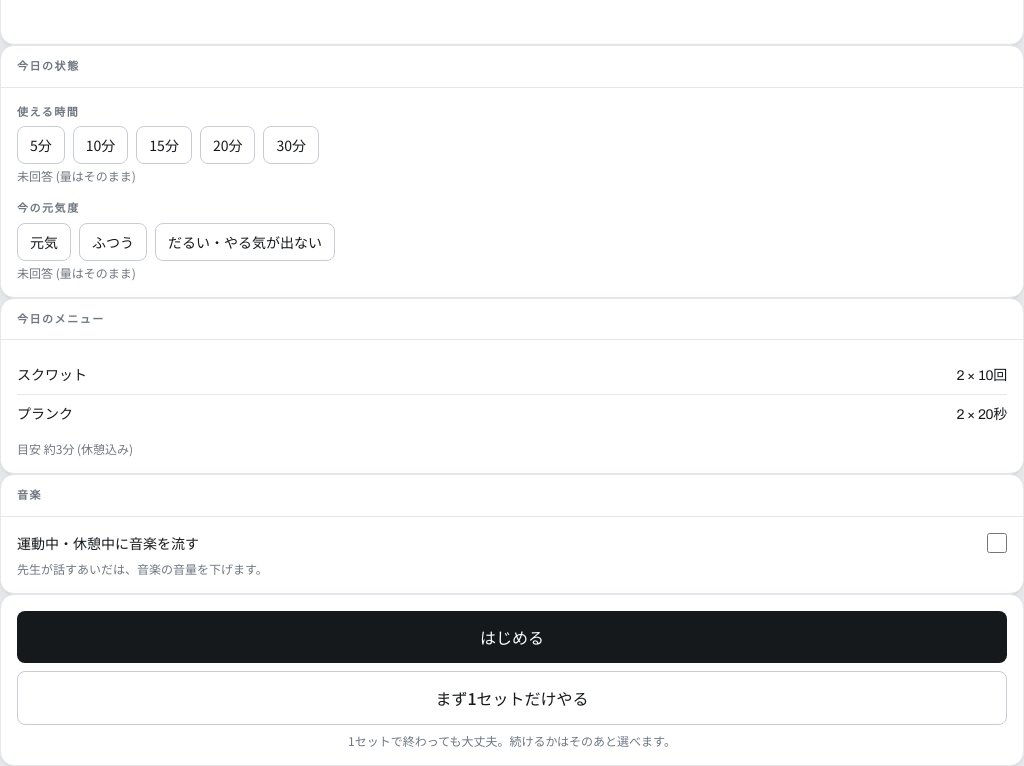
it: closing words › speaks when the answer arrives in time
(page scrolled)
Click the button "まず1セットだけやる".
click(512, 698)  # box 17,670 -> 1007,724
(page scrolled)
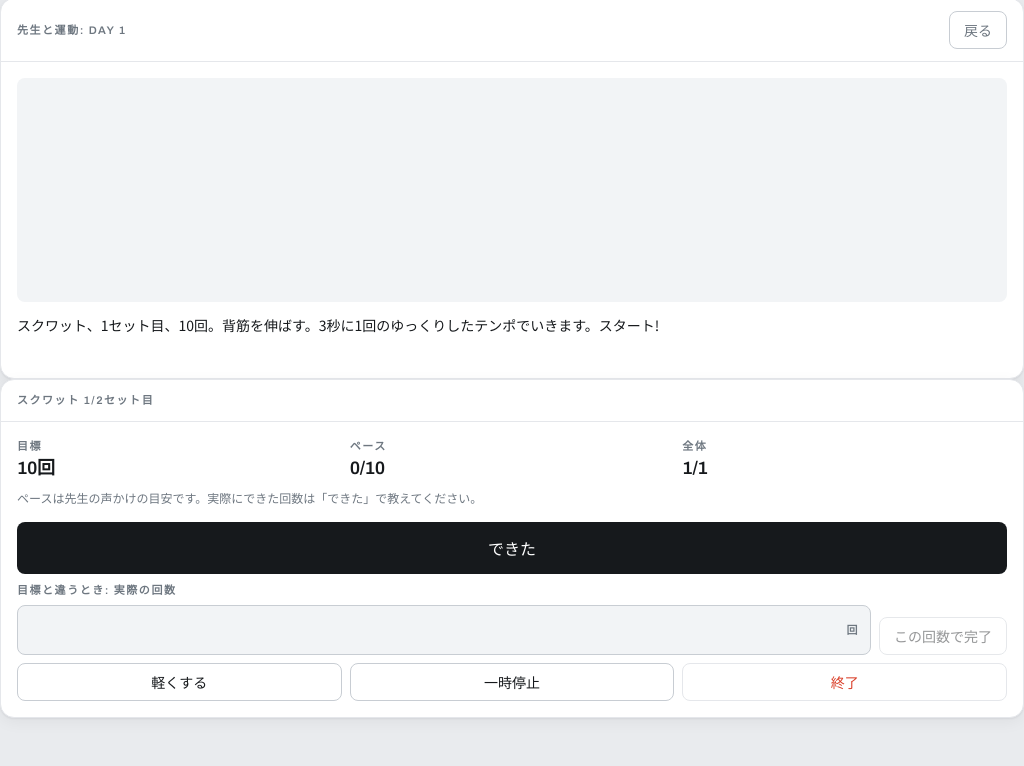
Click the button "できた".
click(512, 548)  # box 17,522 -> 1007,574
(page scrolled)
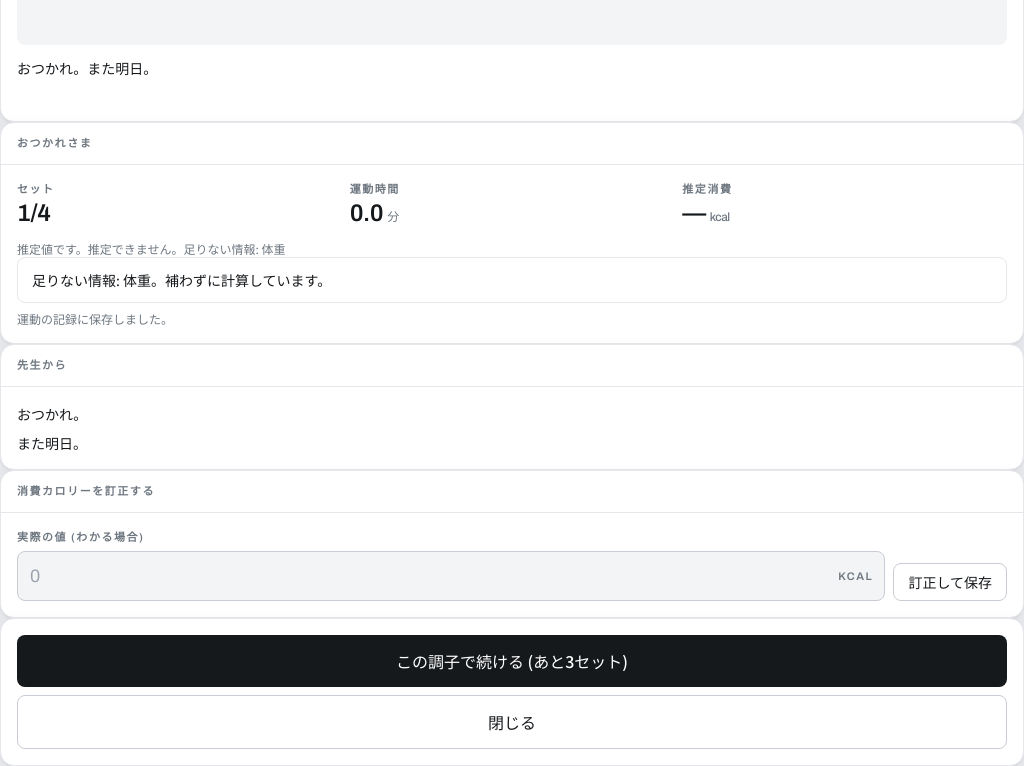
Check: the button "この調子で続ける (あと3セット)" is shown, box 17,635 -> 1007,687
